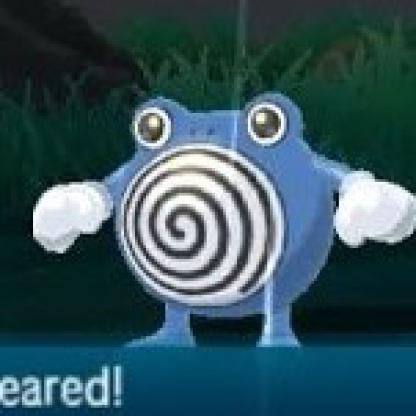Poliwhirl: (37, 92, 416, 354)
